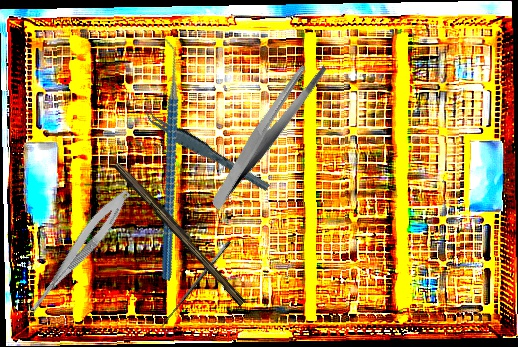Chopper: (79, 32, 252, 282)
Dressing Forceps: (180, 55, 353, 210)
Hook Surgical: (157, 239, 238, 335)
Micro Scissor: (18, 183, 136, 328)
Scalpel Handle: (110, 159, 251, 307)
Tissue Forceps: (140, 95, 271, 205)
